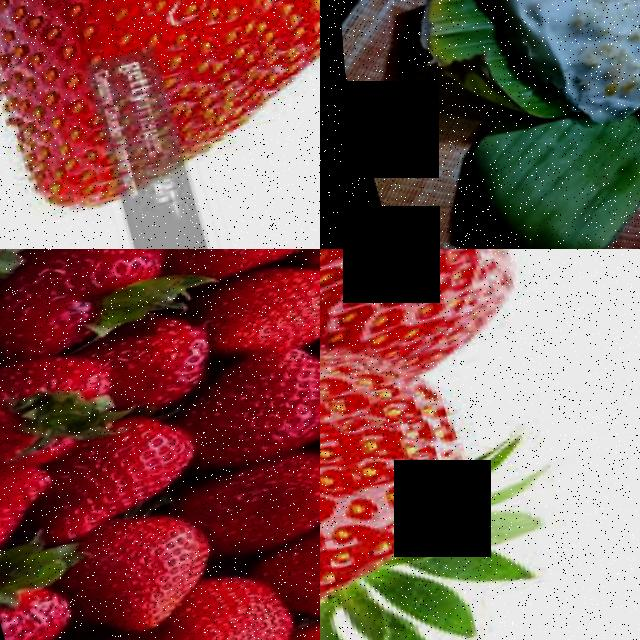strawberry: (320, 371, 504, 640), (0, 0, 320, 98), (320, 249, 517, 373), (0, 249, 168, 361), (179, 345, 320, 475), (43, 418, 200, 533), (183, 445, 320, 556), (67, 505, 206, 614), (0, 343, 112, 476), (190, 263, 320, 368), (116, 597, 290, 640), (153, 249, 320, 290), (267, 507, 320, 631)
tempeh: (506, 0, 640, 136)
